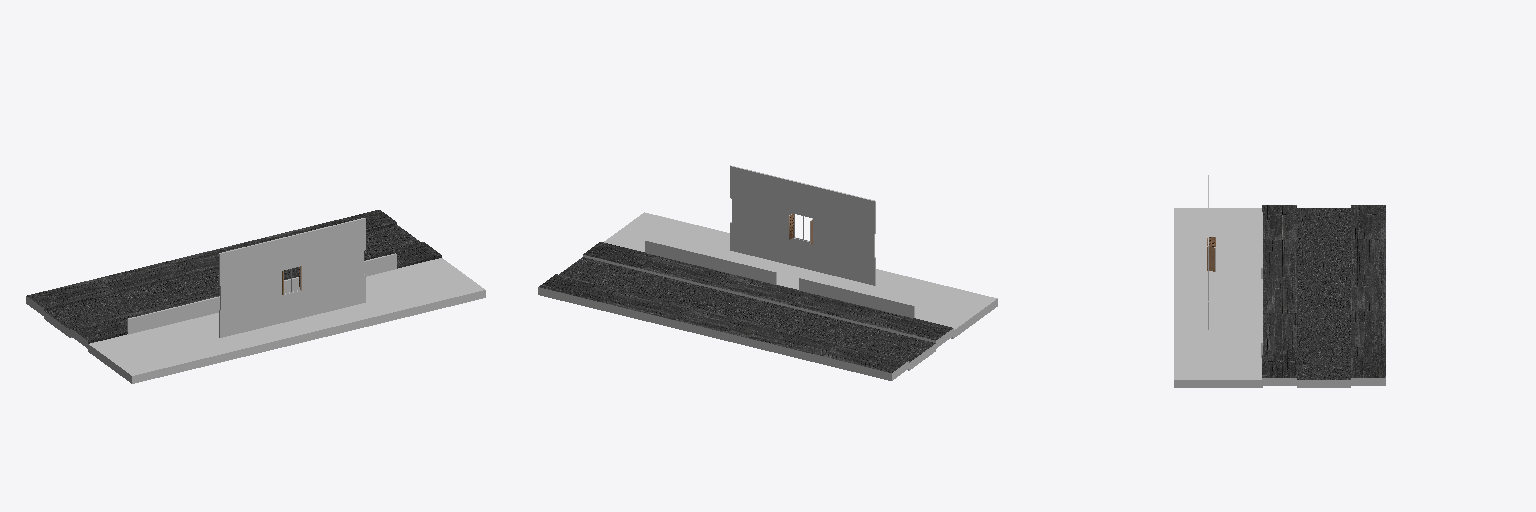
3 renders of one model, left to right at view 1: azimuth 30°, elevation 25°; view 2: azimuth 150°, elevation 25°; view 3: azimuth 270°, elevation 25°, orthographic.
Visible parts, largest first — view 1: cuboid; view 2: cuboid; view 3: cuboid.
Part boxes in pixels (x1,y1,x2,y2): cuboid: (26, 210, 485, 383); cuboid: (538, 165, 997, 380); cuboid: (1174, 175, 1385, 387).
Size of the model in its own units: 5.75 by 1.44 by 2.99.
Materials: 5 (3 with a texture image).